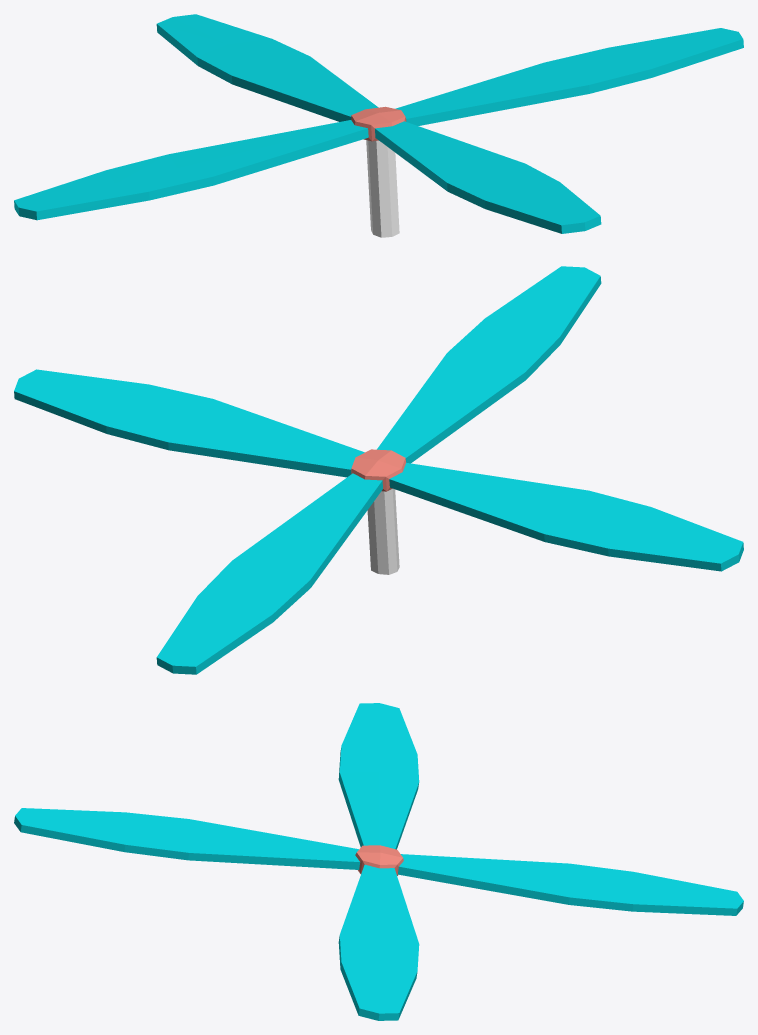
Rendered from gorra.glb.
3 views of the same model, one above another, from view 1: azimuth 30°, elevation 25°; view 2: azimuth 150°, elevation 25°; view 3: azimuth 270°, elevation 25° (orthographic). The views are drawn at different scales.
Visible parts, largest first — view 1: Object_5, Object_6, Object_4; view 2: Object_5, Object_6, Object_4; view 3: Object_5, Object_4.
Part boxes in pixels (x1,y1,x2,y2): Object_5: (14,14,743,233); Object_6: (366,140,399,237); Object_4: (351,106,406,141); Object_5: (14,266,743,674); Object_6: (367,488,399,574); Object_4: (351,449,406,491); Object_5: (14,703,743,1020); Object_4: (355,845,403,875).
Bounding box in the file's own units: 6.46 × 1.33 × 6.42.
